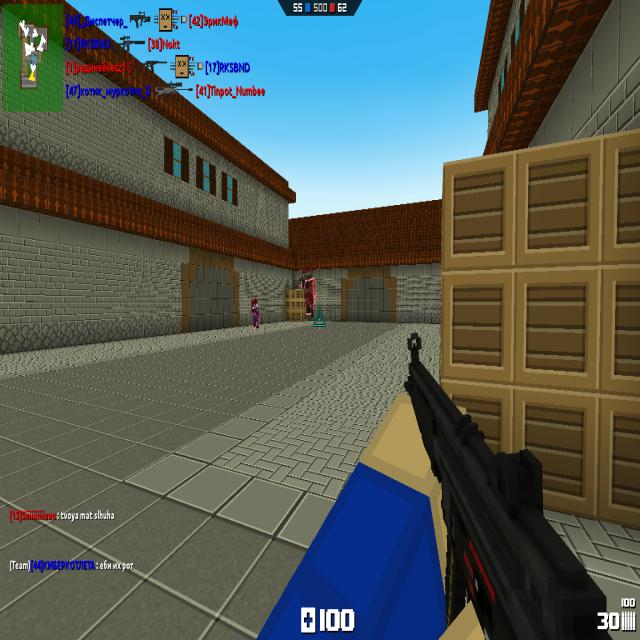enemy: (300, 264, 316, 318), (251, 299, 260, 328)
